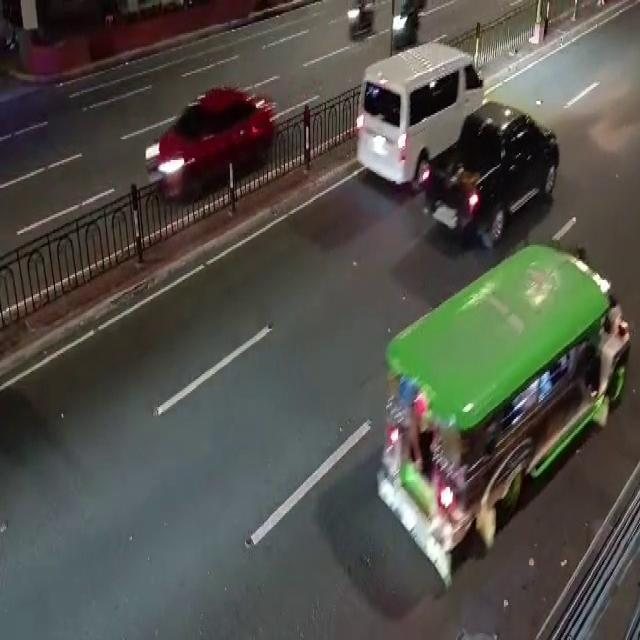car: (416, 86, 576, 271), (342, 33, 486, 193), (133, 76, 287, 210)
jeepney: (371, 223, 634, 613)
